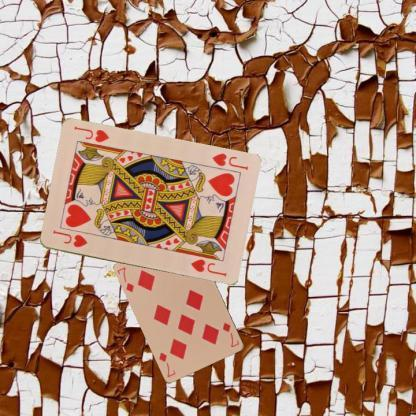7d: (220, 320, 241, 349), (115, 264, 135, 294)
Jh: (209, 150, 249, 172), (50, 227, 88, 249)
